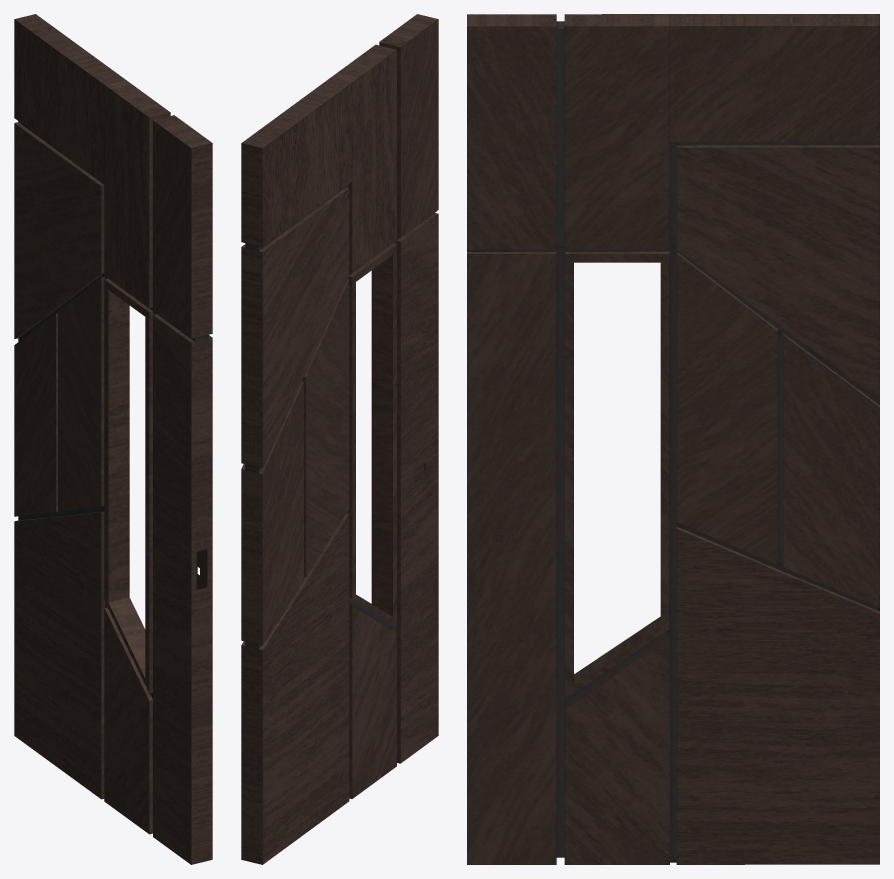
File: PuertaPrincipal.fbx
3 renders of one model, left to right at view 1: azimuth 30°, elevation 25°; view 2: azimuth 150°, elevation 25°; view 3: azimuth 270°, elevation 25°, orthographic. The views are drawn at different scales.
Parts seen in each view (by area): view 1: Door 2; view 2: Door 2; view 3: Door 2.
Part boxes in pixels (x1,y1,x2,y2): Door 2: (14,14,212,864); Door 2: (241,14,438,864); Door 2: (467,14,879,864).
Bounding box in the file's own units: 7.73 × 243 × 108.
1 material, 1 textured.
